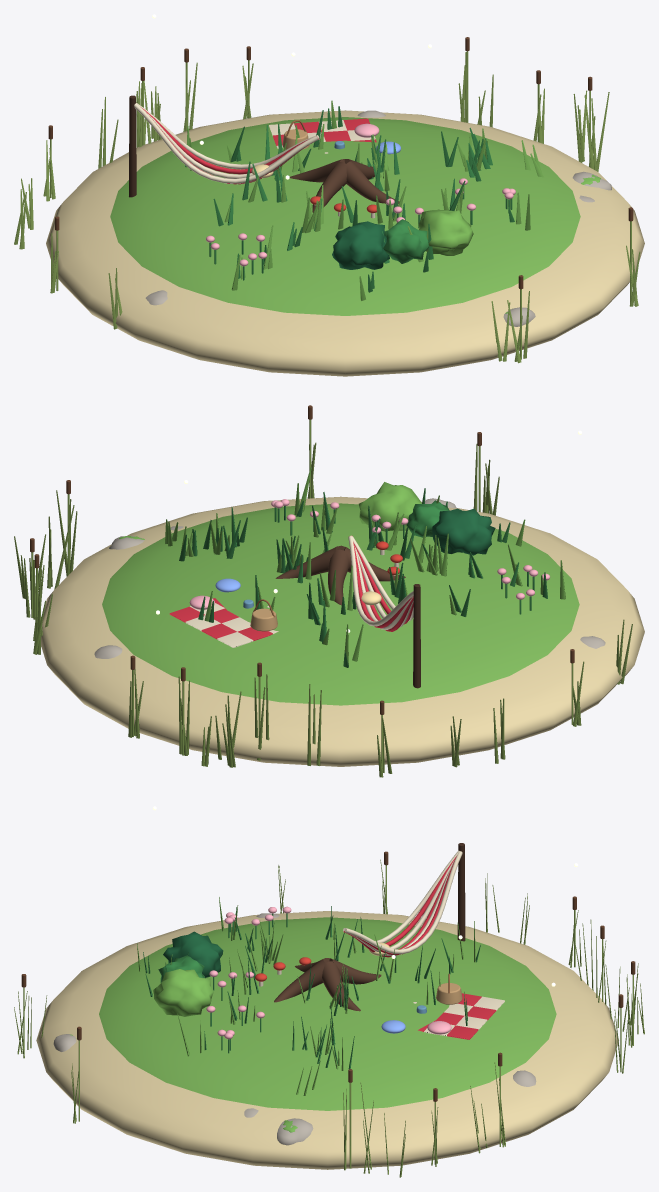
File: islet_11.glb
3 views of the same model, one above another, from view 1: azimuth 30°, elevation 25°; view 2: azimuth 150°, elevation 25°; view 3: azimuth 270°, elevation 25° (orthographic). The views are drawn at different scales.
Visible parts, largest first — view 1: islet_grass.011, islet_sand.011, bush.033, bush.035, bush.034, hammock.013, root.047, hammock_post.001, root.046, hammock.007, hammock.008, hammock.009; view 2: islet_grass.011, islet_sand.011, bush.033, bush.035, bush.034, hammock_post.001, root.045, hammock.007, root.044, basket.001; view 3: islet_grass.011, islet_sand.011, bush.035, bush.033, hammock.007, root.047, root.044, hammock_post.001, rock.066, root.045, bush.034, hammock.013.
Boxes of the visible parts, x1,y1,x2,y2 form: islet_grass.011: (110,117,580,315); islet_sand.011: (46,110,644,376); bush.033: (332,221,389,269); bush.035: (418,209,473,255); bush.034: (383,219,428,263); hammock.013: (134,103,318,183); root.047: (345,161,399,203); hammock_post.001: (129,95,136,197); root.046: (312,161,347,212); hammock.007: (136,102,319,169); hammock.008: (142,108,307,174); hammock.009: (144,110,300,178); islet_grass.011: (102,503,579,705); islet_sand.011: (41,496,644,766); bush.033: (432,508,495,555); bush.035: (359,482,421,531); bush.034: (406,500,449,537); hammock_post.001: (413,584,420,688); root.045: (328,549,349,605); hammock.007: (348,536,413,626); root.044: (275,546,338,578); basket.001: (250,608,277,631); islet_grass.011: (99,917,556,1110); islet_sand.011: (36,911,618,1169); bush.035: (153,969,213,1016); bush.033: (163,931,223,977); hammock.007: (345,851,462,954); root.047: (274,959,326,1002); root.044: (322,961,360,1011); hammock_post.001: (457,843,465,941); rock.066: (277,1118,313,1145); root.045: (329,958,381,984); bush.034: (158,955,205,982); hammock.013: (343,850,459,942).
Bounding box in the file's own units: 9.09 × 3.36 × 9.31.
